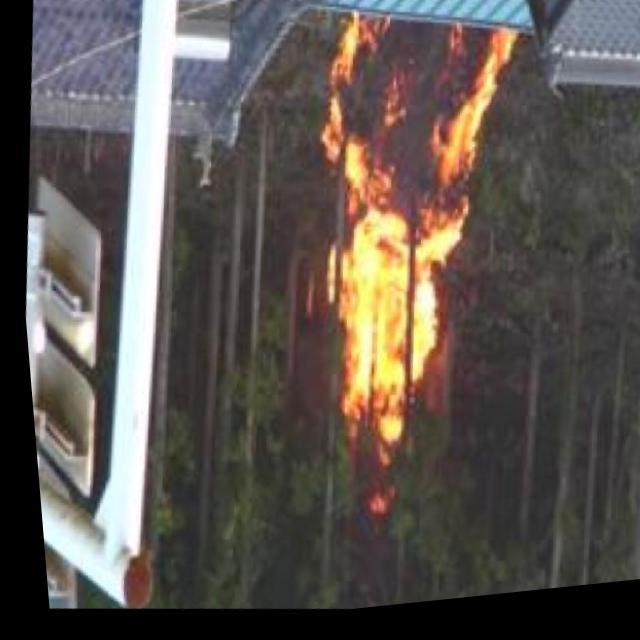fire: (276, 4, 530, 470)
